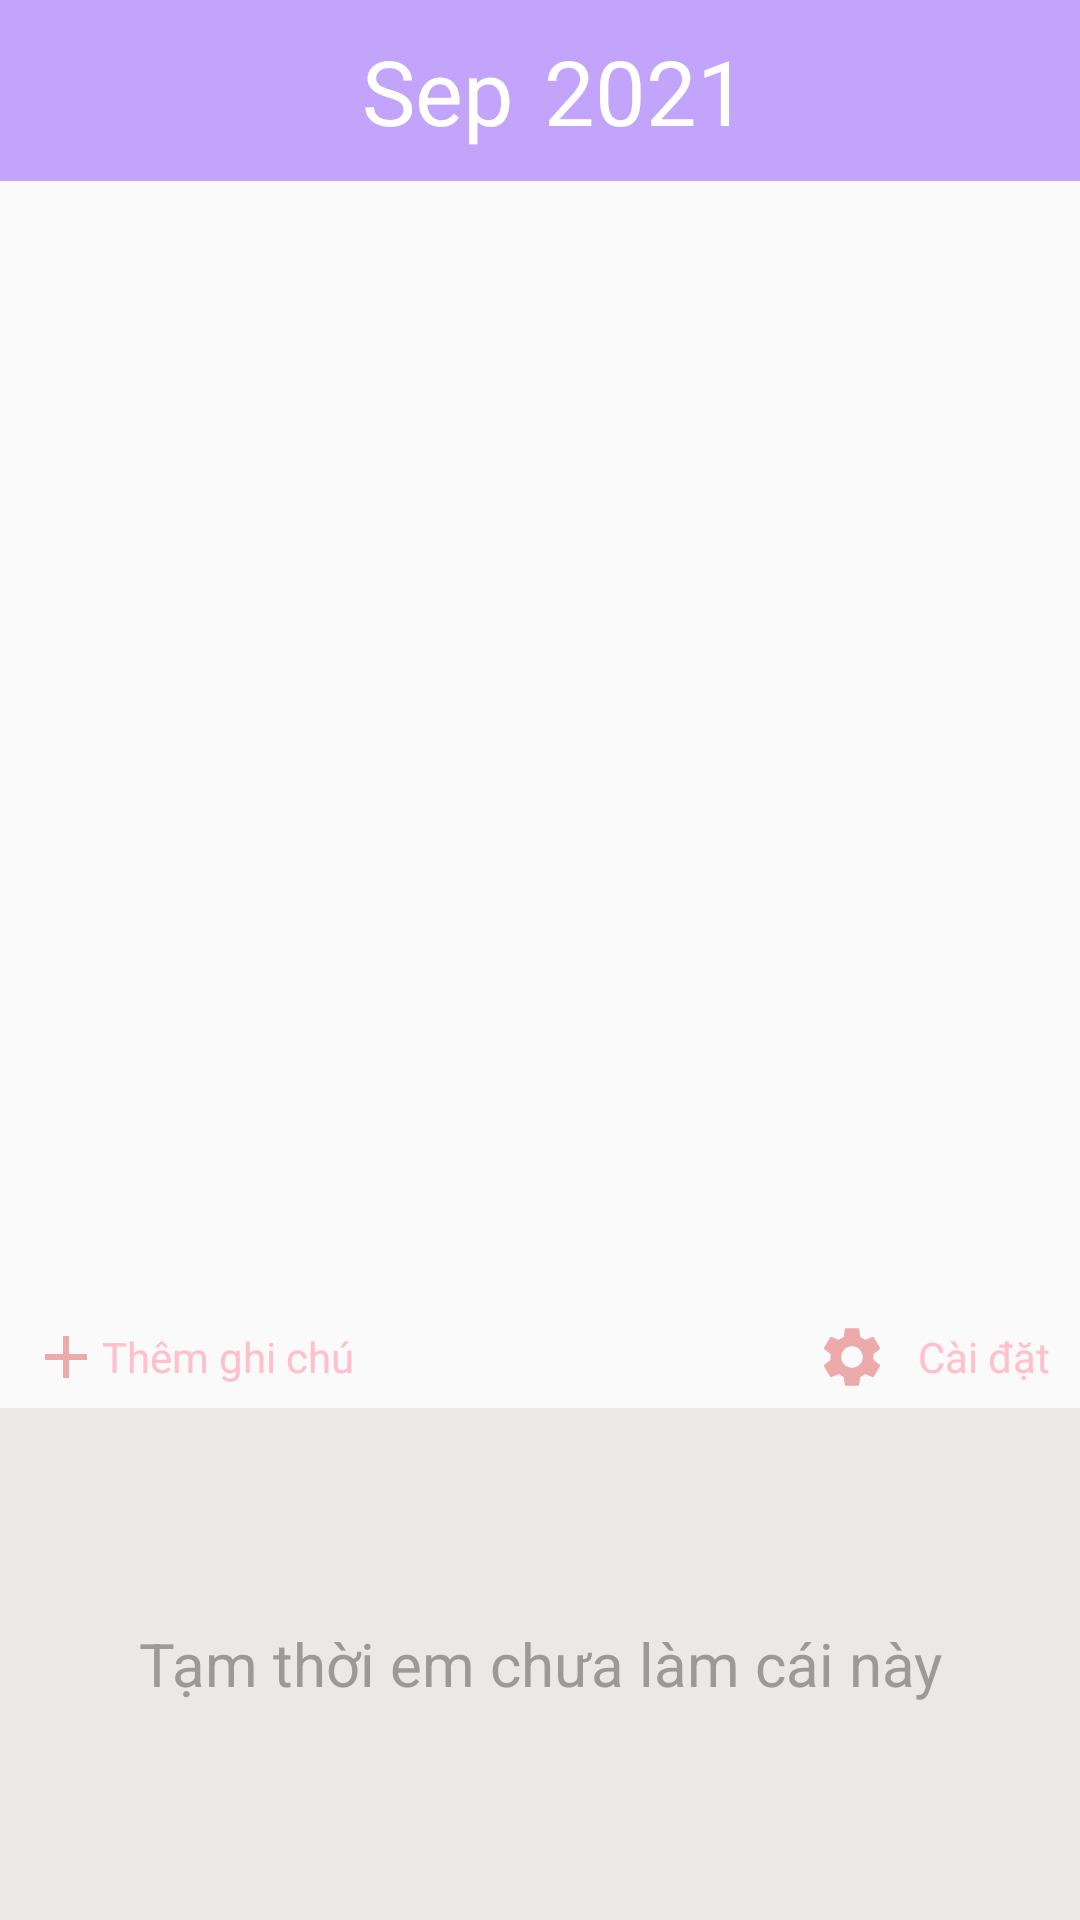

Where to tap for icons on this 1080 × 1920 app screen, as (x,y):
add: (66,1357)
settings: (852,1357)
